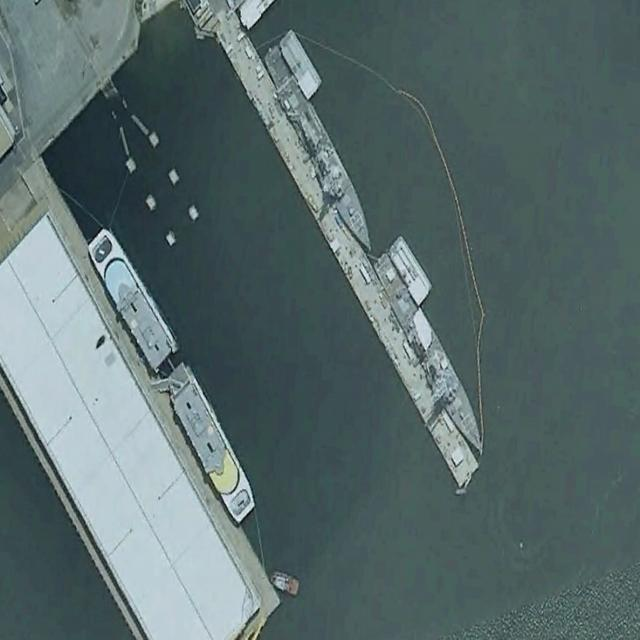Destroyer: (254, 40, 383, 261), (364, 246, 493, 465)
RoRo: (160, 358, 259, 526), (84, 221, 178, 373)
